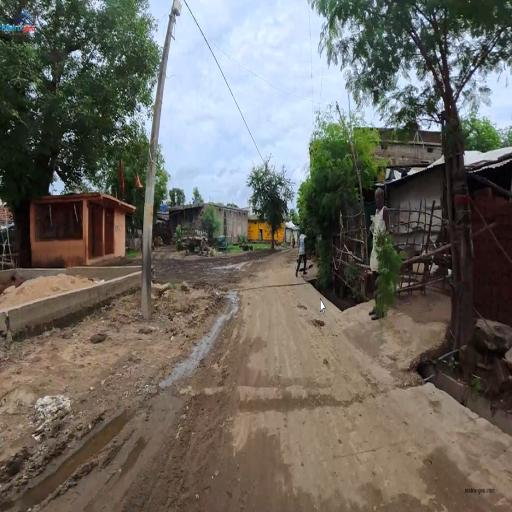longitudinal_crack: (226, 386, 403, 422)
